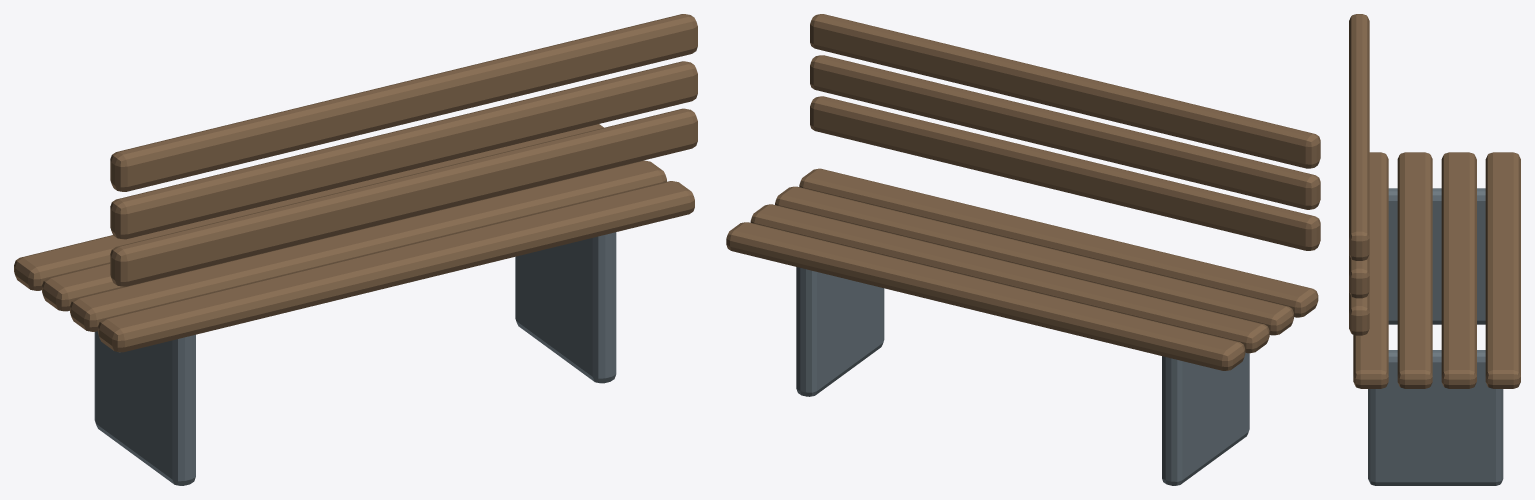
File: Bench.fbx
The picture shows the model from 3 angles, left to right: view 1: azimuth 30°, elevation 25°; view 2: azimuth 150°, elevation 25°; view 3: azimuth 270°, elevation 25°; orthographic projection. The views are drawn at different scales.
Visible parts, largest first — view 1: Body.042; view 2: Body.042; view 3: Body.042.
Part boxes in pixels (box(x1,y1,x2,y2)): Body.042: box(14, 14, 697, 485); Body.042: box(726, 14, 1320, 485); Body.042: box(1349, 14, 1520, 485).
Bounding box in the file's own units: 1.8 × 1.06 × 0.585.
